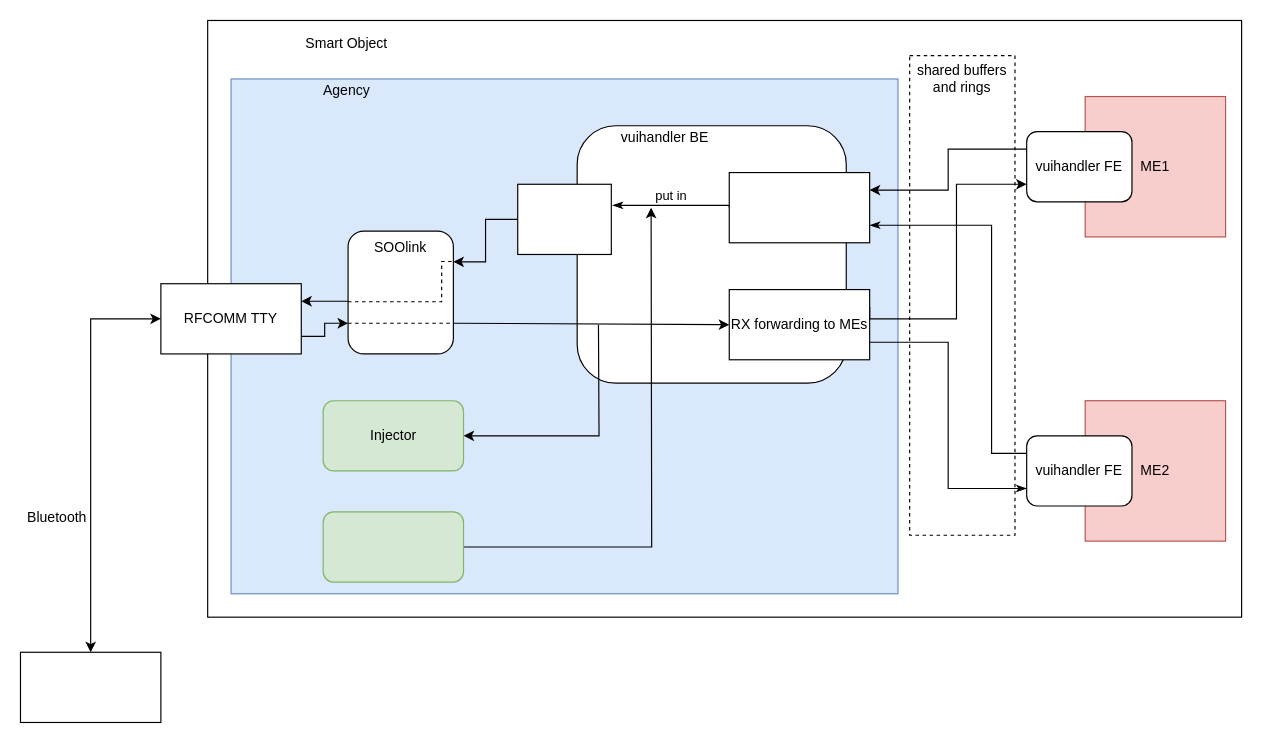
This 1262x743 diagram has some shape labels left out. The centre of each missing label's shape, as x and y in pixels:
Tablet: (90,686)
TX buffer: (564,218)
TX callback: (799,207)
XML Engine: (393,546)
